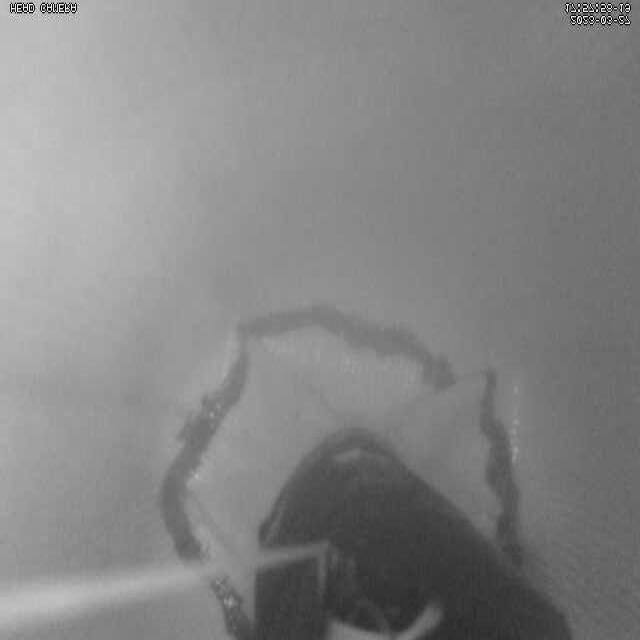red-circle: (159, 303, 526, 639)
